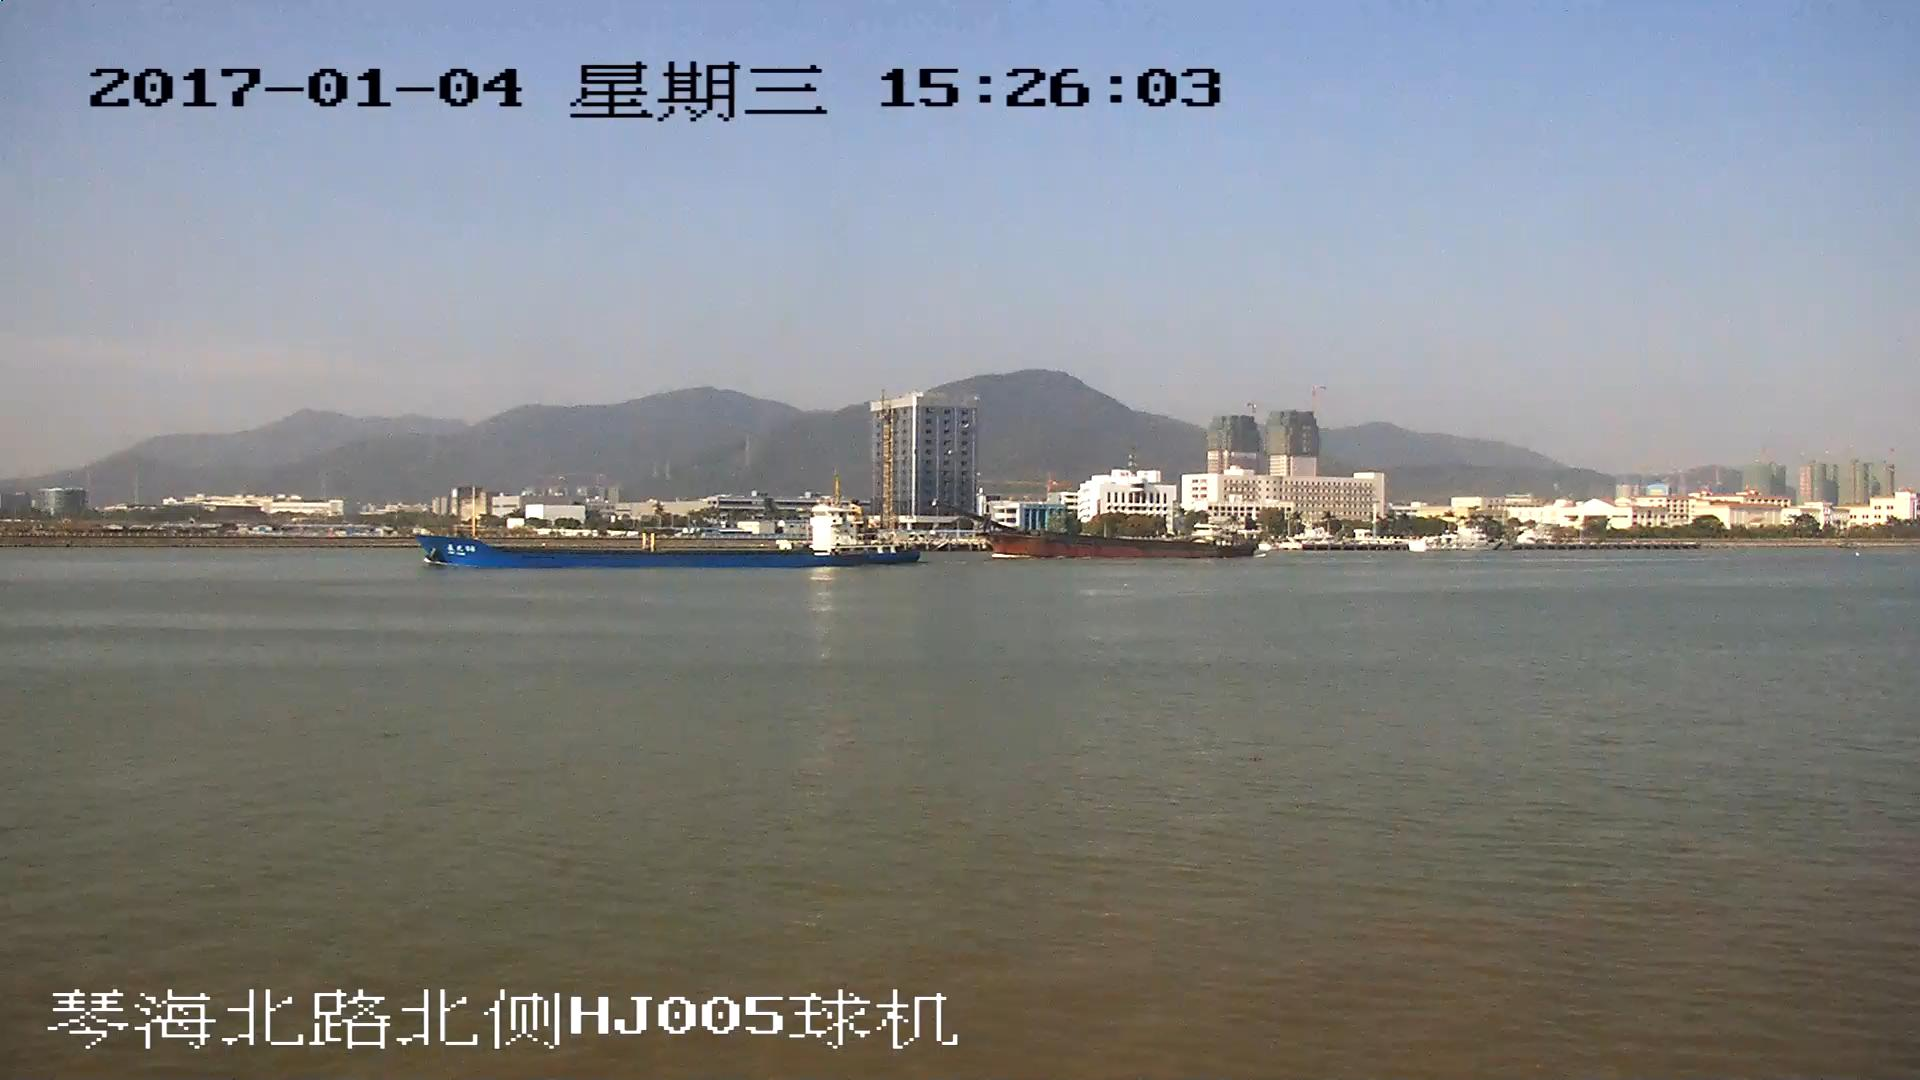bulk cargo carrier: (935, 504, 1260, 558)
general cargo ship: (410, 487, 917, 569)
